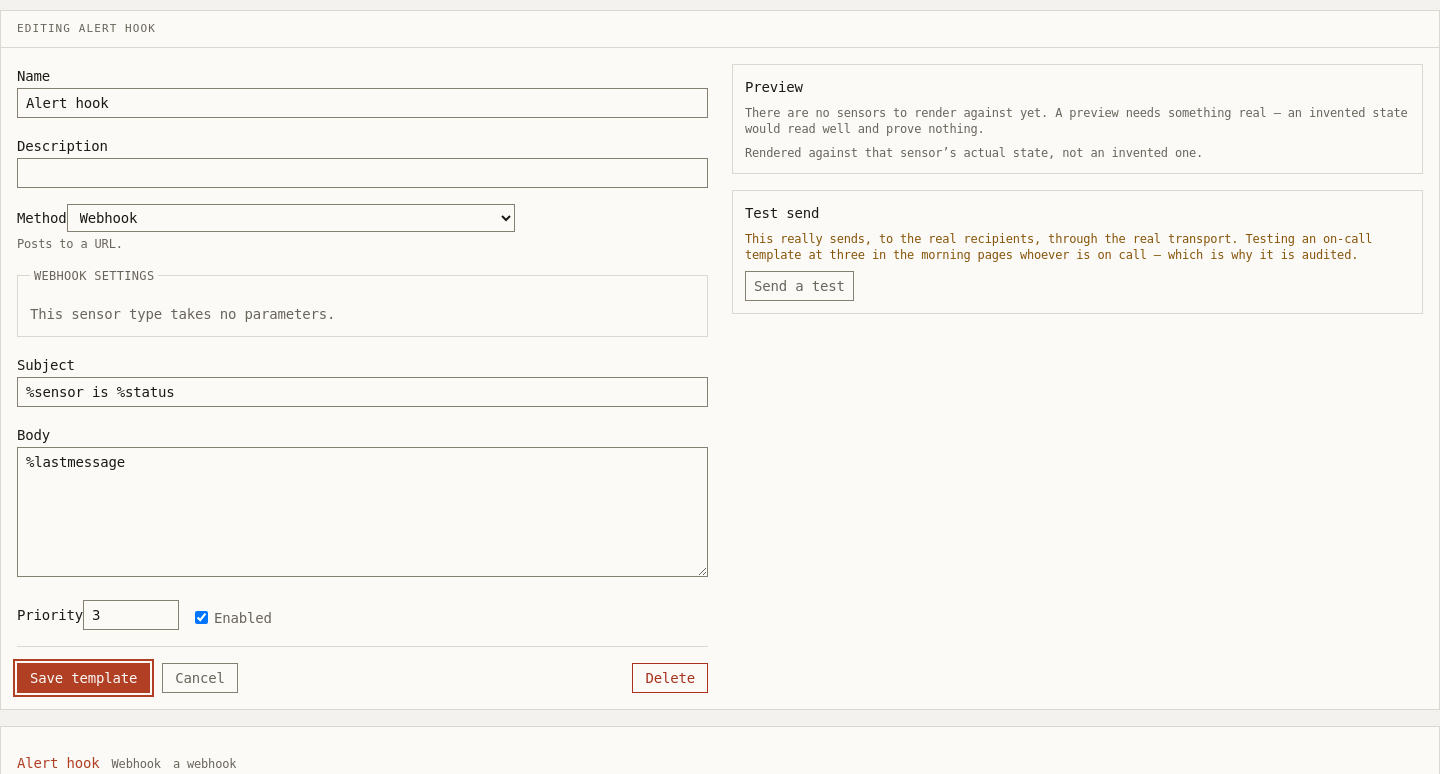
Test case: a failed re-read of the template list (U-67) › leaves focus where the operator took it while the read was out
Expected: the heading "Editing Alert hook" is shown, [17,21,156,37]
Click the button "Save template" at {"x": 84, "y": 678}, box [17,663,150,693]
(page scrolled)
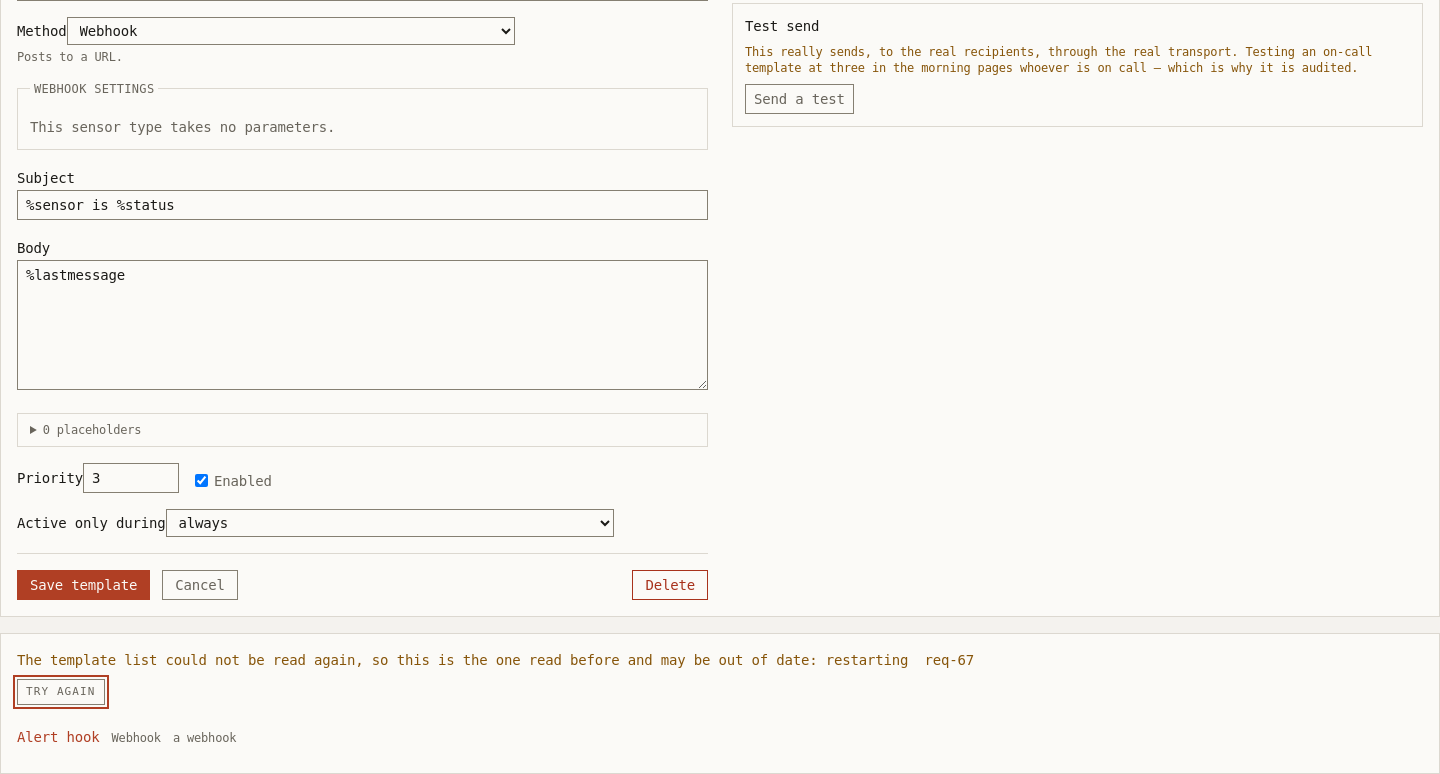
Click the button "Try again" at {"x": 61, "y": 692}, box [17,679,104,705]
(page scrolled)
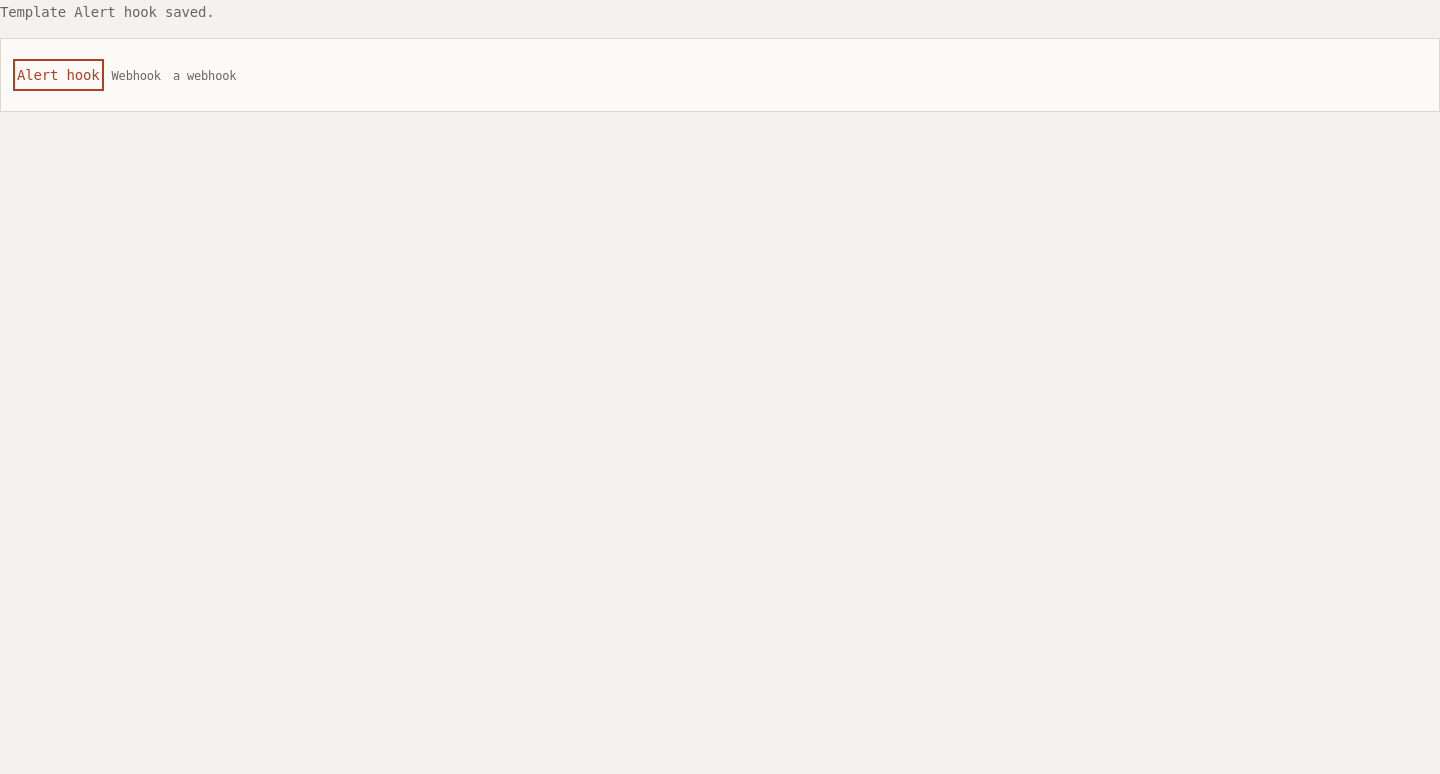
Expected: the button "Try again" is gone
